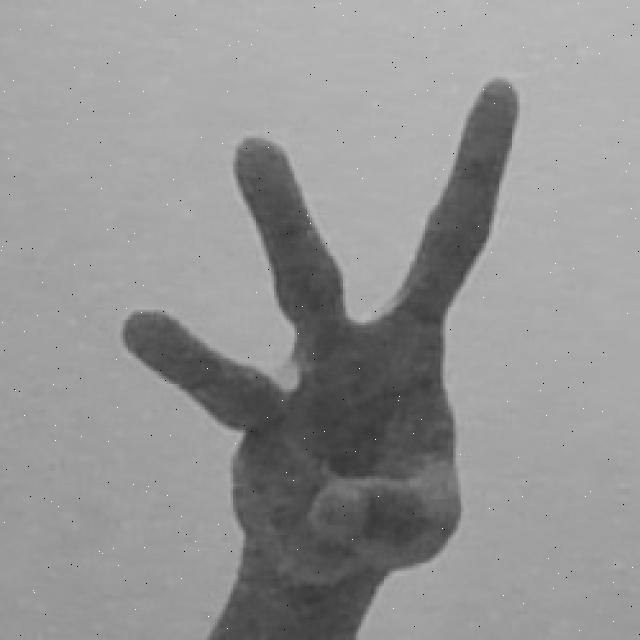W: (107, 71, 522, 640)
